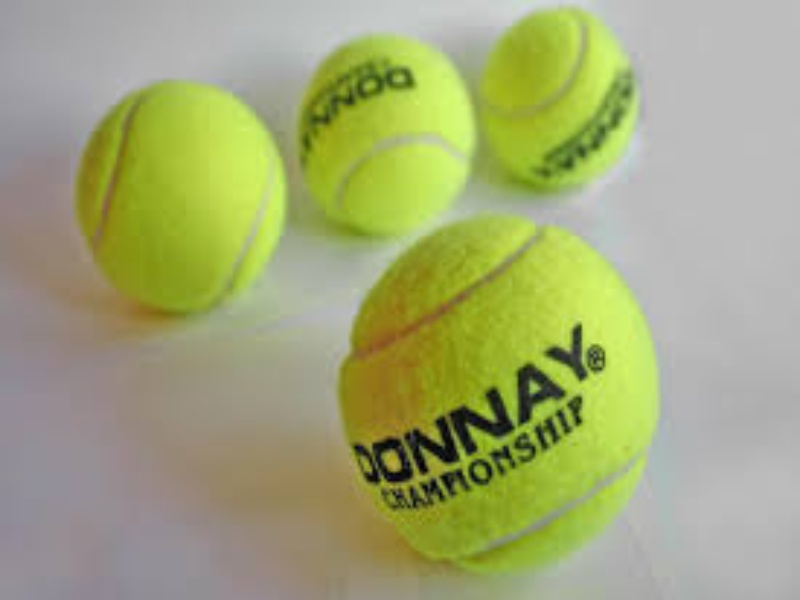tennis ball: (339, 220, 680, 585), (62, 69, 297, 322), (289, 33, 488, 224), (481, 3, 658, 198)
